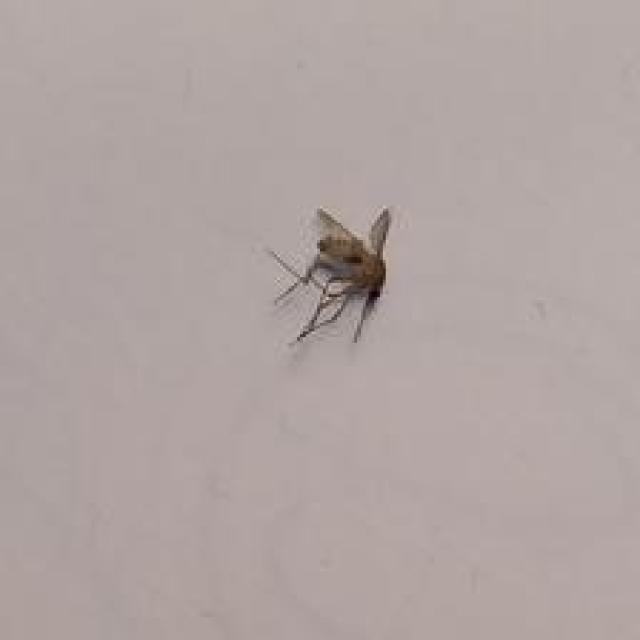Culex: (264, 204, 393, 347)
